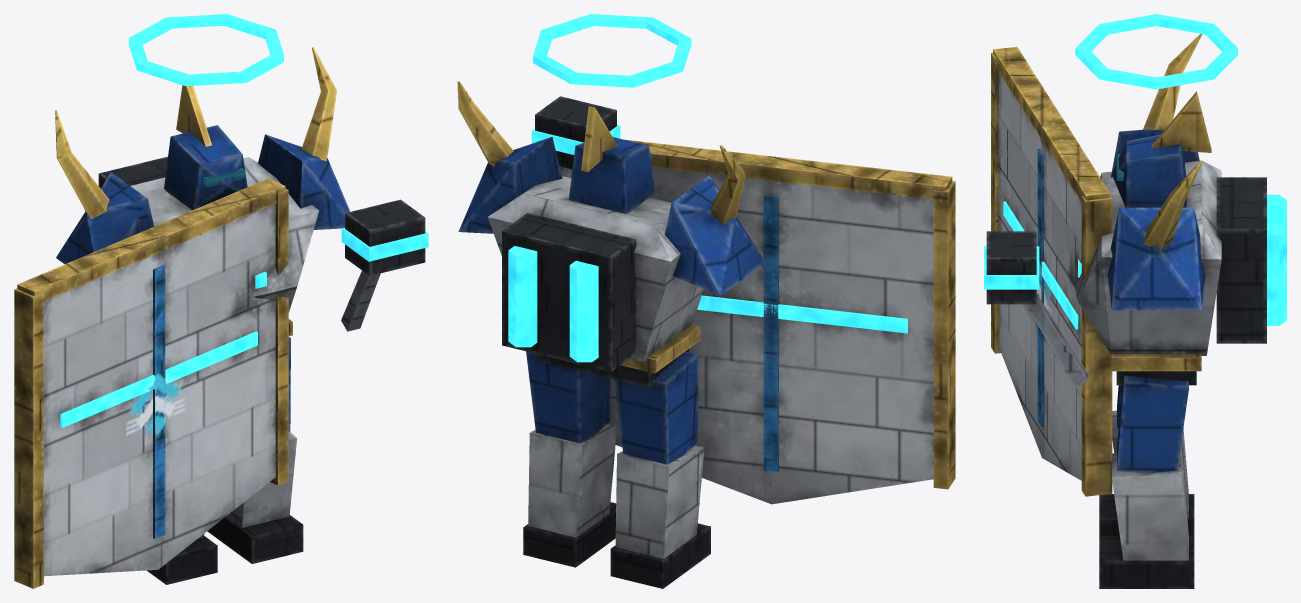
The model's file is u_sentinel4_w.glb.
3 renders of one model, left to right at view 1: azimuth 30°, elevation 25°; view 2: azimuth 150°, elevation 25°; view 3: azimuth 270°, elevation 25°, orthographic.
Parts seen in each view (by area): view 1: u_sentinel4_w; view 2: u_sentinel4_w; view 3: u_sentinel4_w.
Boxes of the visible parts, x1=… form: u_sentinel4_w: x1=14, y1=14, x2=428, y2=588; u_sentinel4_w: x1=457, y1=14, x2=955, y2=588; u_sentinel4_w: x1=984, y1=14, x2=1286, y2=588.
Bounding box in the file's own units: 2.56 × 3.05 × 1.65.
Materials: 1 (1 with a texture image).
